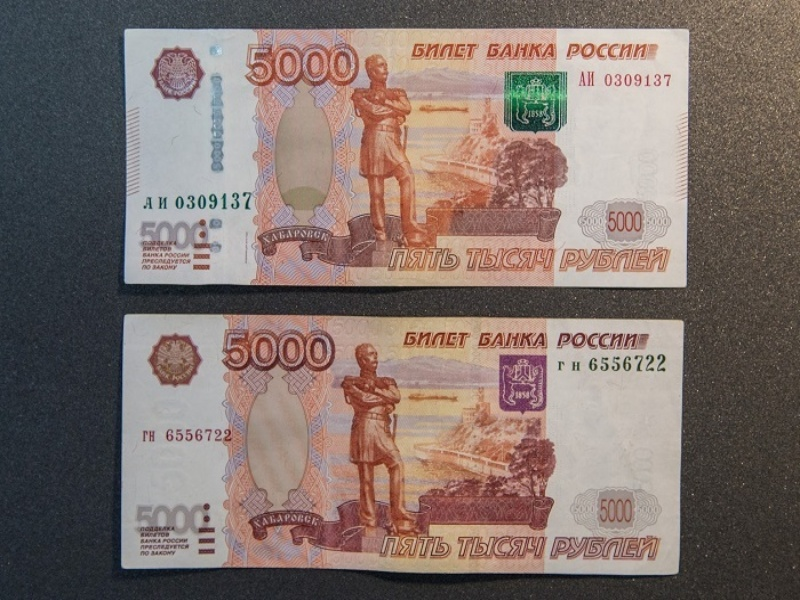cash: (122, 313, 682, 577), (122, 28, 689, 287)
